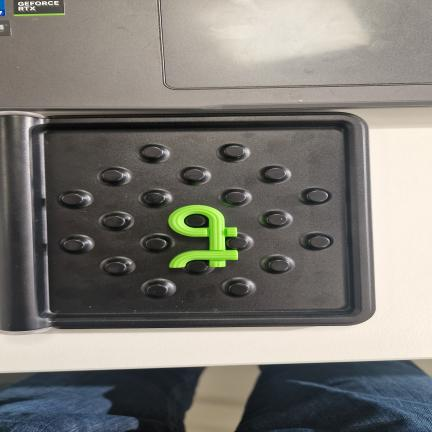K_YellowGreen: (169, 205, 237, 267)
board: (0, 113, 375, 332)
hinge: (0, 112, 49, 337)
pin: (222, 189, 250, 206), (184, 214, 208, 227), (306, 189, 328, 203), (144, 192, 167, 204), (142, 146, 163, 159), (106, 215, 127, 228), (105, 261, 126, 274), (147, 284, 168, 297), (265, 168, 287, 180), (102, 170, 124, 182), (264, 214, 286, 226), (145, 238, 167, 250), (63, 239, 85, 251), (228, 283, 250, 295), (224, 145, 244, 158), (62, 193, 82, 206), (184, 169, 205, 181), (309, 236, 330, 248), (187, 260, 208, 272), (269, 259, 290, 271), (228, 237, 248, 249)
